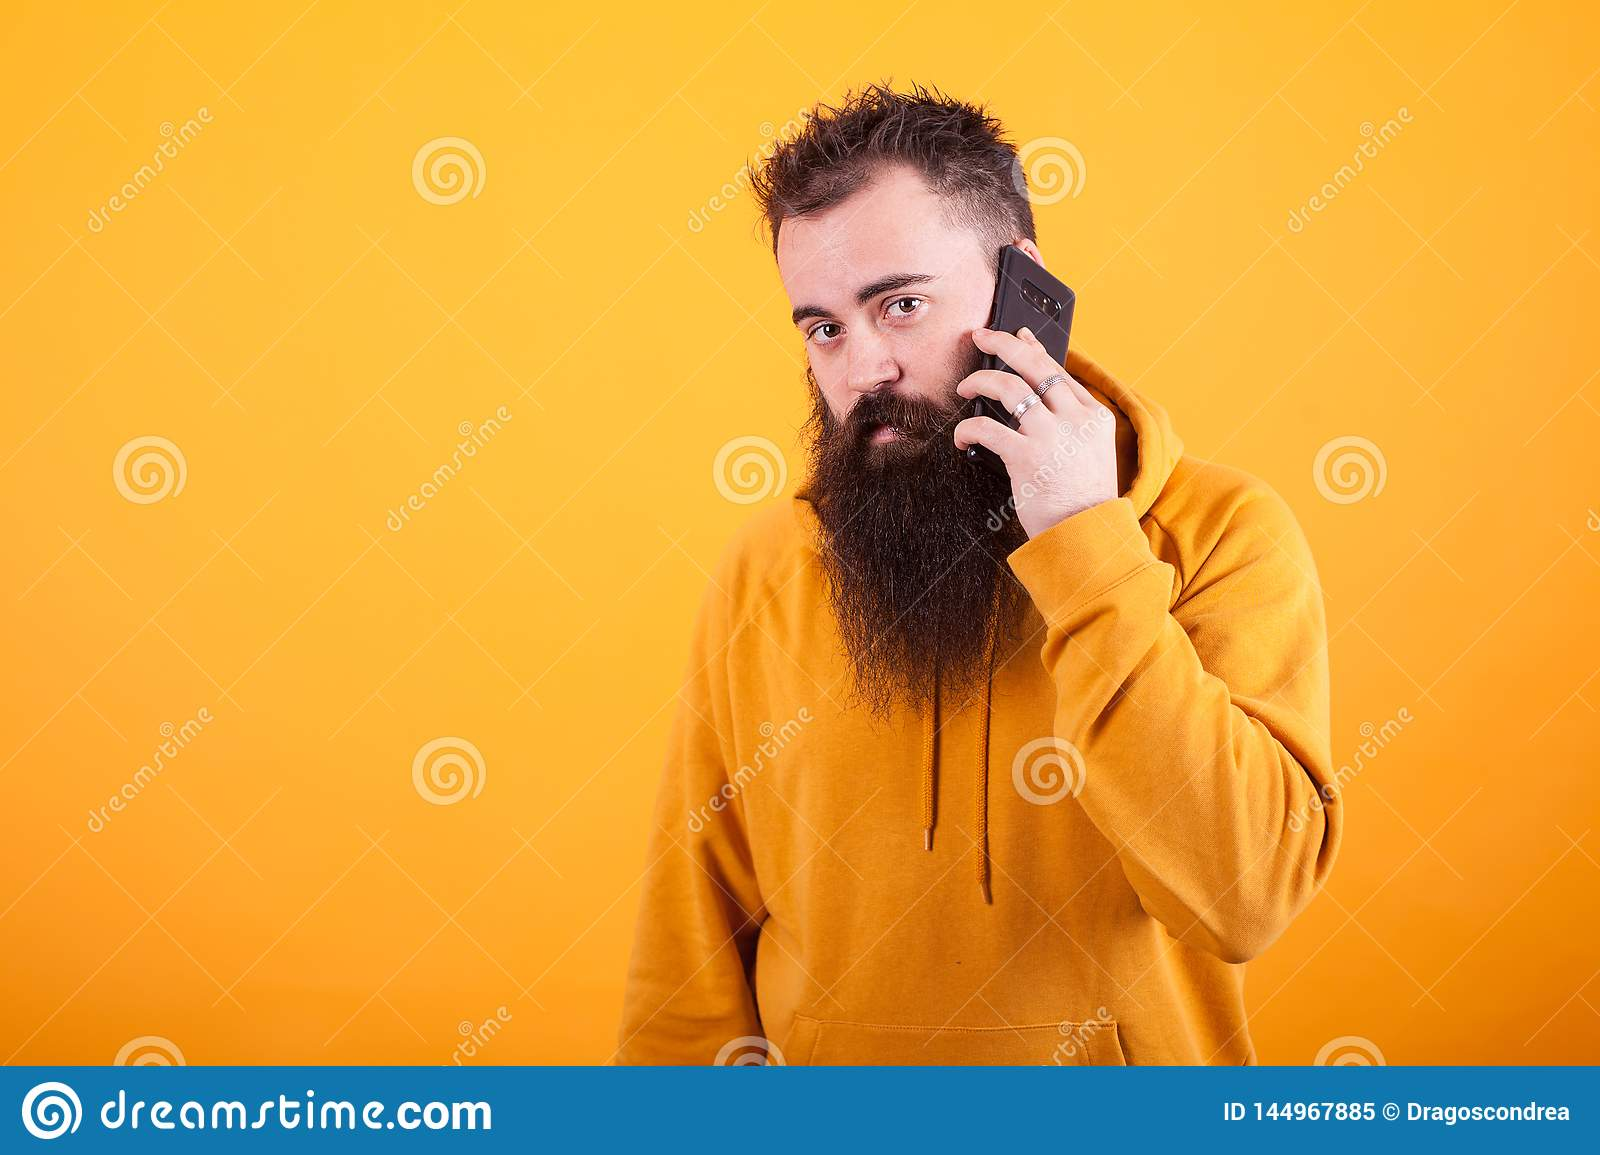phone: (965, 248, 1080, 482)
talk: (788, 247, 1120, 554)
